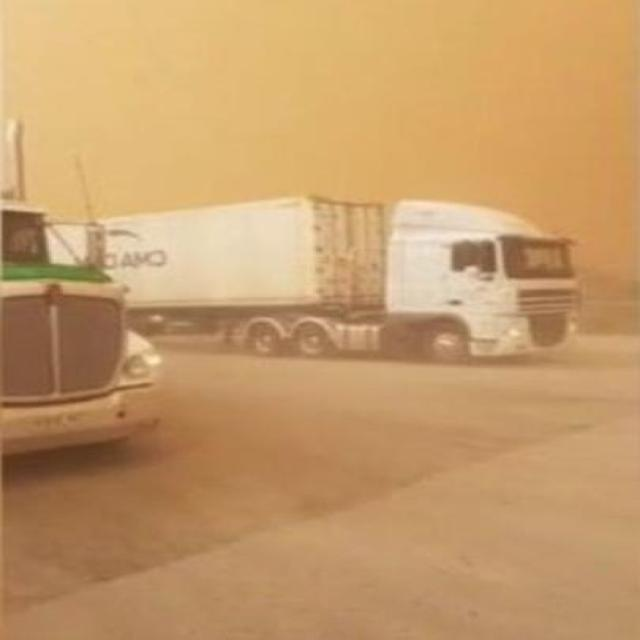Car: (0, 110, 169, 462)
